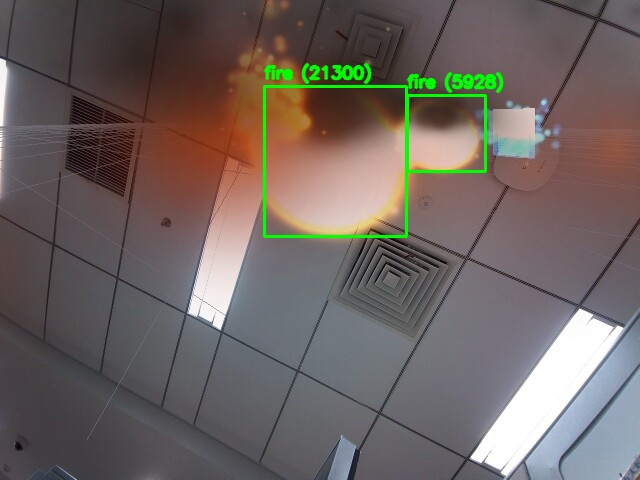fire: (264, 86, 406, 236), (407, 95, 485, 171)
